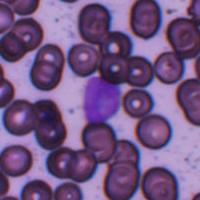L: (81, 76, 121, 123)
